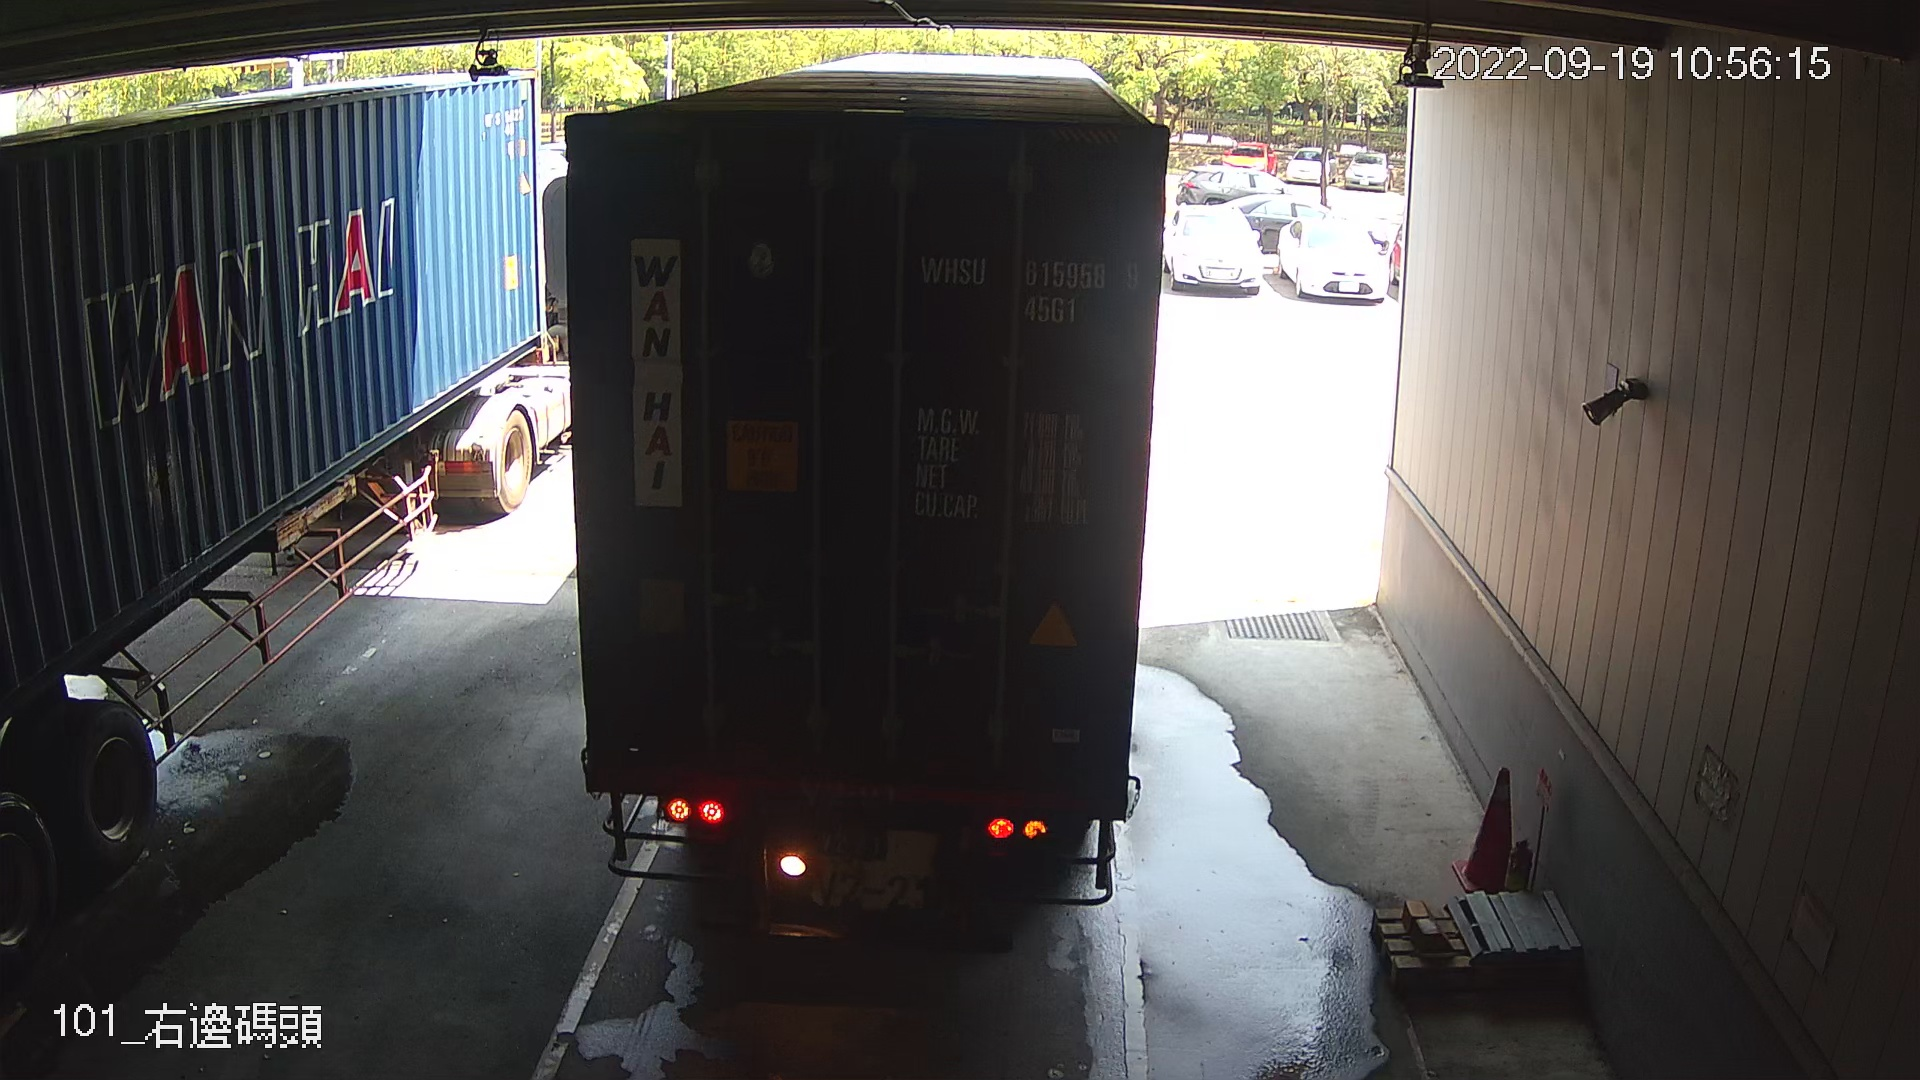container: (913, 247, 1153, 332)
